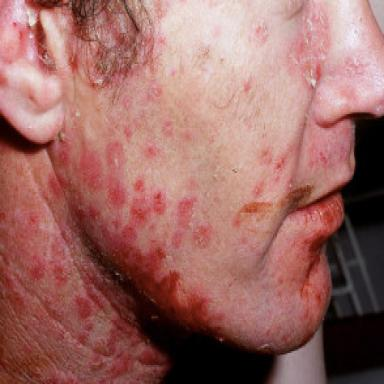eczema: (28, 141, 227, 384), (86, 0, 151, 93), (297, 194, 343, 303), (290, 1, 330, 89), (0, 209, 28, 312), (307, 121, 354, 167), (239, 181, 272, 214), (281, 186, 313, 215), (39, 367, 83, 383), (47, 171, 70, 200), (37, 48, 56, 74), (55, 141, 74, 164), (262, 150, 285, 169), (254, 21, 269, 44), (68, 48, 81, 72)
